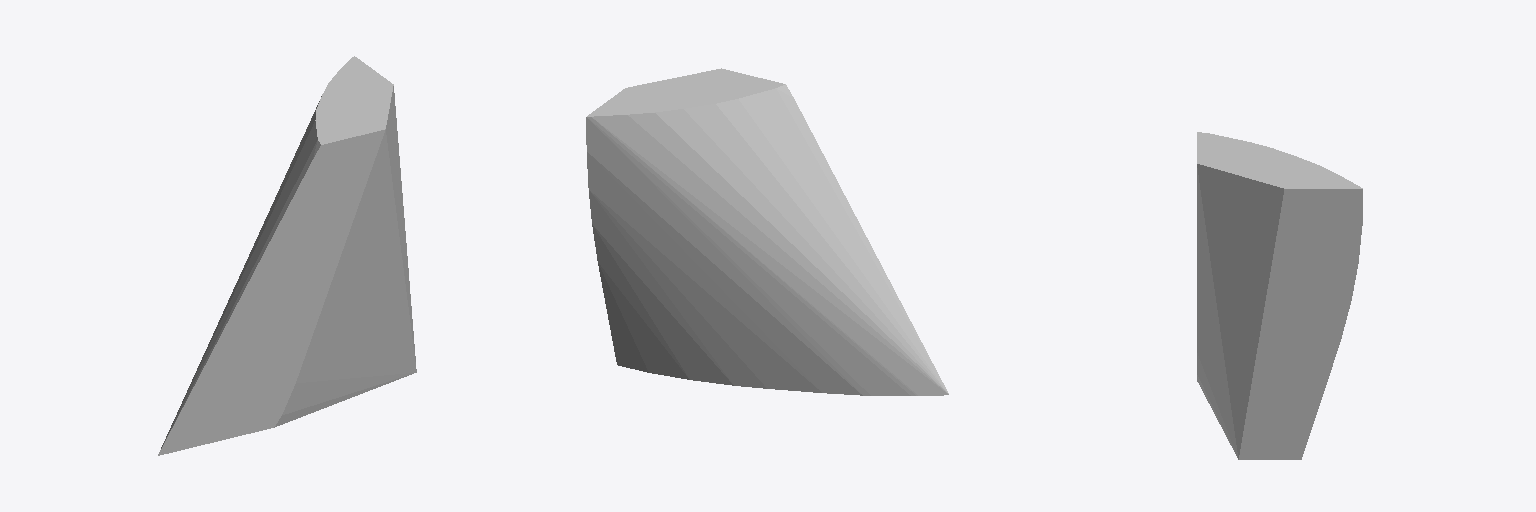
Rendered from phantom-elastrat_collision_227.obj.
3 views of the same model, side by side, from view 1: azimuth 30°, elevation 25°; view 2: azimuth 150°, elevation 25°; view 3: azimuth 270°, elevation 25° (orthographic).
Size of the model in its own units: 0.0086 by 0.0079 by 0.0044.